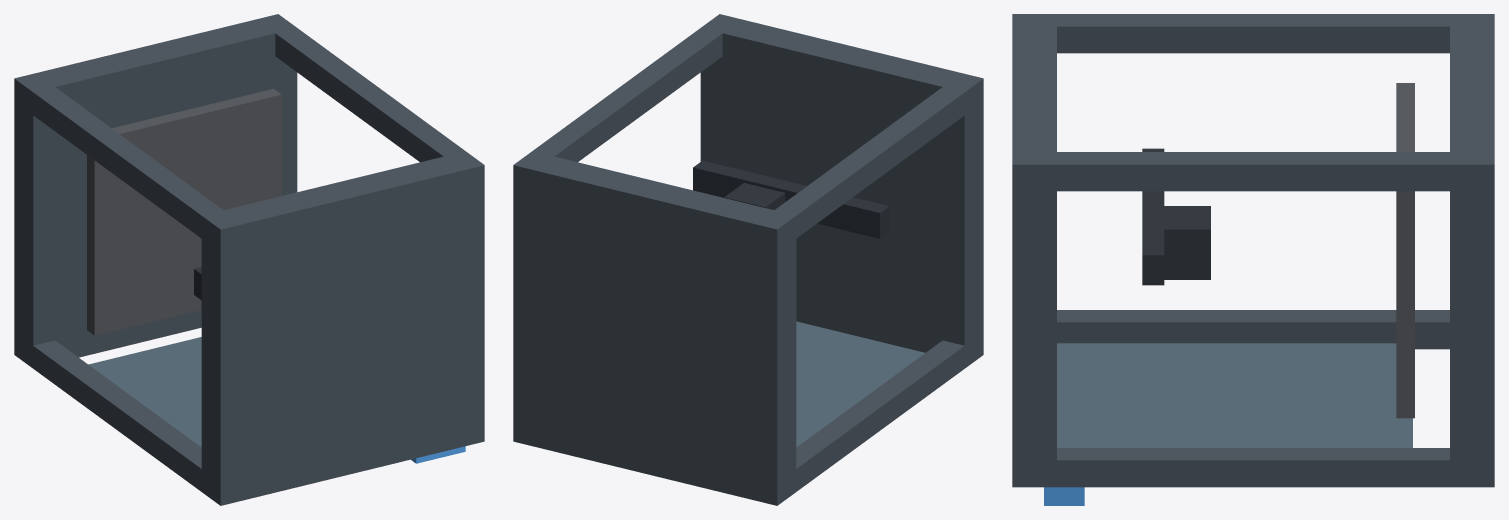
File: printer-p1-style.glb
3 renders of one model, left to right at view 1: azimuth 30°, elevation 25°; view 2: azimuth 150°, elevation 25°; view 3: azimuth 270°, elevation 25°, orthographic. The views are drawn at different scales.
Parts seen in each view (by area): view 1: Top, Base, Bed, Post_-0.22_0.22, Post_-0.22_-0.22, Post_0.22_0.22, FrontGlass; view 2: Base, Top, FrontGlass, Post_-0.22_0.22, Post_0.22_0.22, Post_-0.22_-0.22, XRail, PrintHead; view 3: FrontGlass, Base, Top, Post_0.22_0.22, Post_0.22_-0.22, Post_-0.22_0.22, Post_-0.22_-0.22, Bed, PrintHead, XRail, Display.
Part boxes in pixels (left/top/right/bottom): Top: left=201, top=151, right=484, bottom=505; Base: left=14, top=14, right=297, bottom=368; Bed: left=87, top=88, right=281, bottom=335; Post_-0.22_0.22: left=33, top=87, right=226, bottom=238; Post_-0.22_-0.22: left=33, top=340, right=210, bottom=498; Post_0.22_0.22: left=275, top=28, right=474, bottom=163; FrontGlass: left=88, top=337, right=201, bottom=447; Base: left=513, top=151, right=796, bottom=505; Top: left=700, top=14, right=983, bottom=368; FrontGlass: left=796, top=321, right=924, bottom=447; Post_-0.22_0.22: left=775, top=80, right=964, bottom=238; Post_0.22_0.22: left=532, top=21, right=731, bottom=162; Post_-0.22_-0.22: left=796, top=340, right=964, bottom=491; XRail: left=693, top=160, right=889, bottom=238; PrintHead: left=724, top=183, right=785, bottom=210; FrontGlass: left=1057, top=343, right=1412, bottom=447; Base: left=1450, top=14, right=1494, bottom=487; Top: left=1012, top=14, right=1056, bottom=487; Post_0.22_0.22: left=1034, top=152, right=1449, bottom=191; Post_0.22_-0.22: left=1034, top=448, right=1449, bottom=487; Post_-0.22_0.22: left=1034, top=14, right=1449, bottom=53; Post_-0.22_-0.22: left=1057, top=310, right=1449, bottom=349; Bed: left=1396, top=83, right=1414, bottom=418; PrintHead: left=1164, top=206, right=1210, bottom=279; XRail: left=1142, top=148, right=1164, bottom=285; Display: left=1044, top=487, right=1084, bottom=505.
Bounding box in the file's own units: 0.48 × 0.5125 × 0.65.
